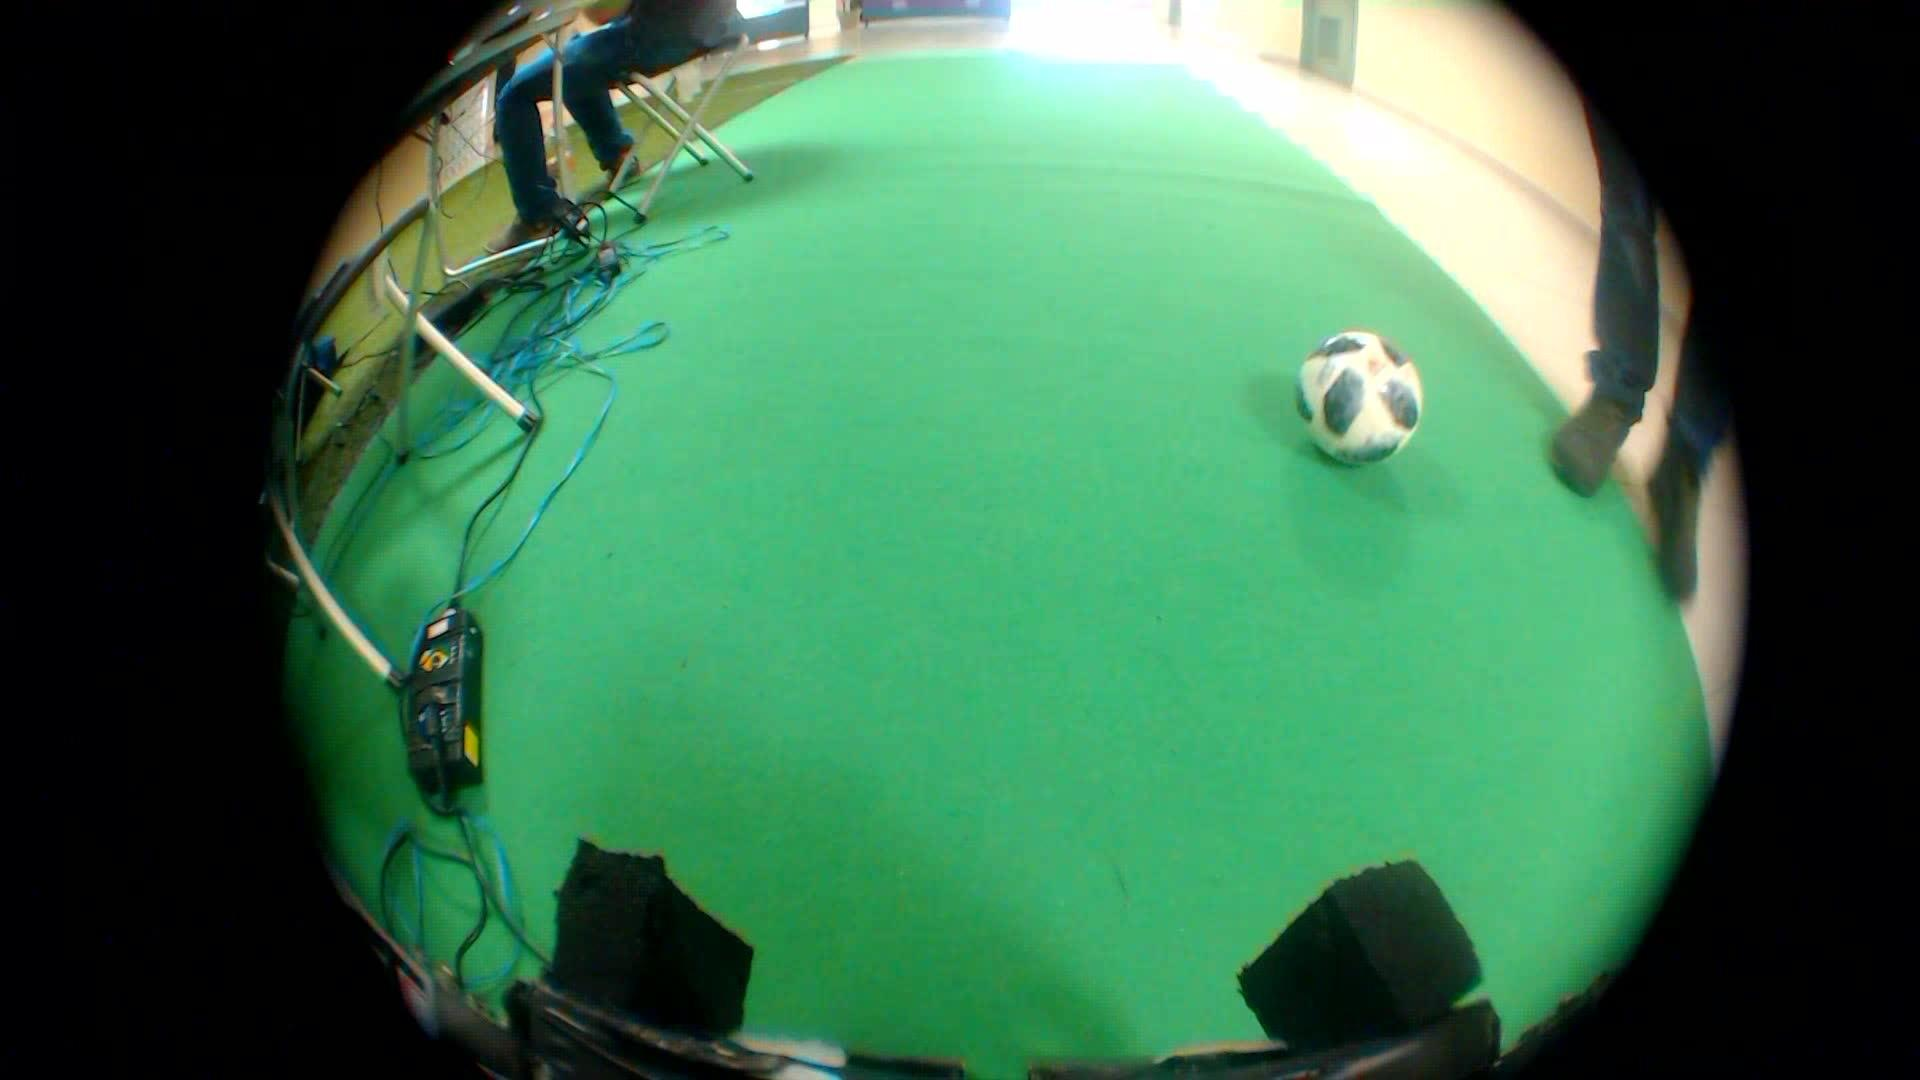ball: (1278, 316, 1433, 469)
